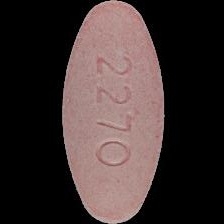0093-2270: (0, 0, 224, 224)
